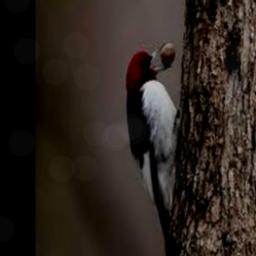Woodpecker: (125, 41, 179, 256)
